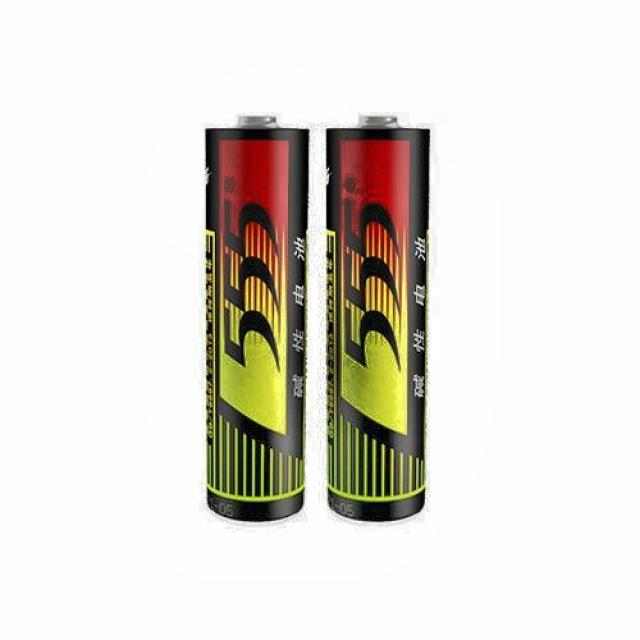Non-Valuable Waste - Batteries: (206, 116, 309, 521), (326, 116, 429, 521)
